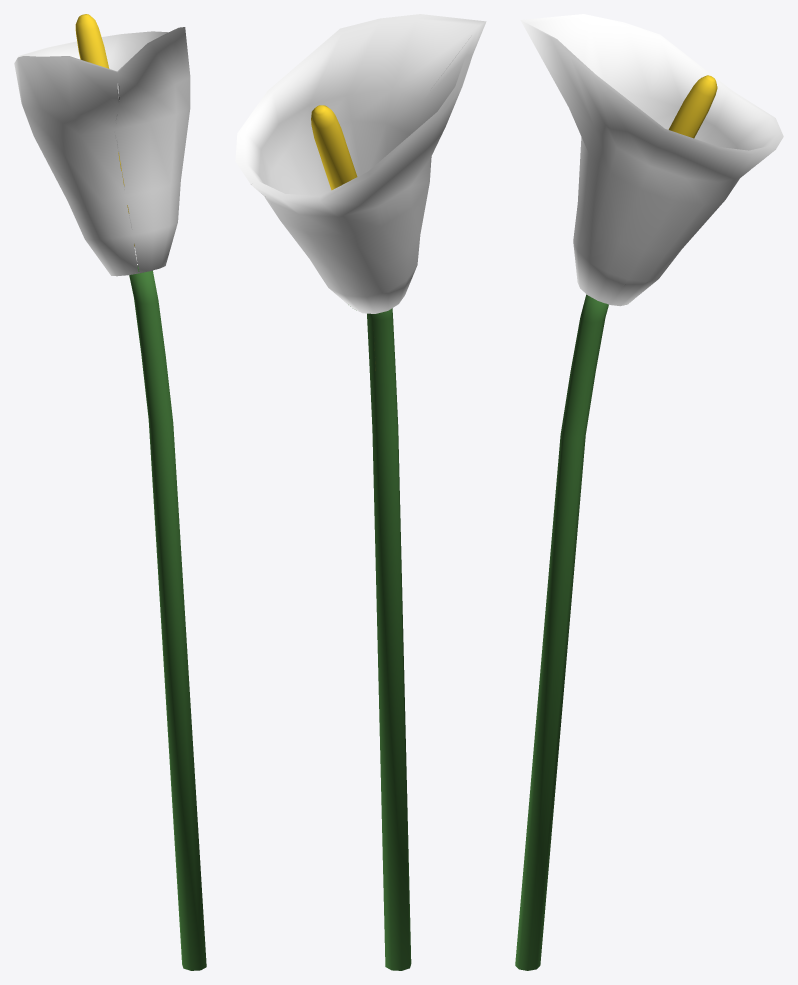
The model's file is callalilyflower2.fbx.
3 views of the same model, side by side, from view 1: azimuth 30°, elevation 25°; view 2: azimuth 150°, elevation 25°; view 3: azimuth 270°, elevation 25° (orthographic). The views are drawn at different scales.
Visible parts, largest first — view 1: callalily; view 2: callalily; view 3: callalily.
Boxes of the visible parts, x1=… form: callalily: x1=14, y1=14, x2=206, y2=970; callalily: x1=235, y1=14, x2=486, y2=970; callalily: x1=515, y1=14, x2=783, y2=970.
Size of the model in its own units: 219 by 1166 by 311.
